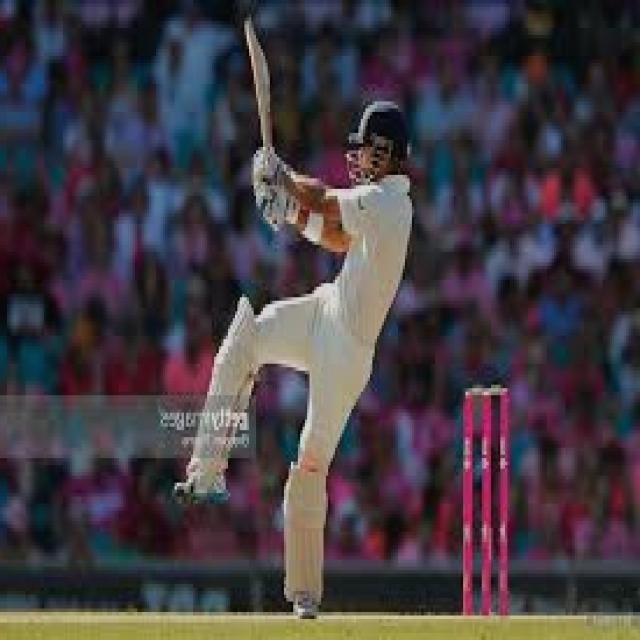toe: (242, 16, 258, 52)
